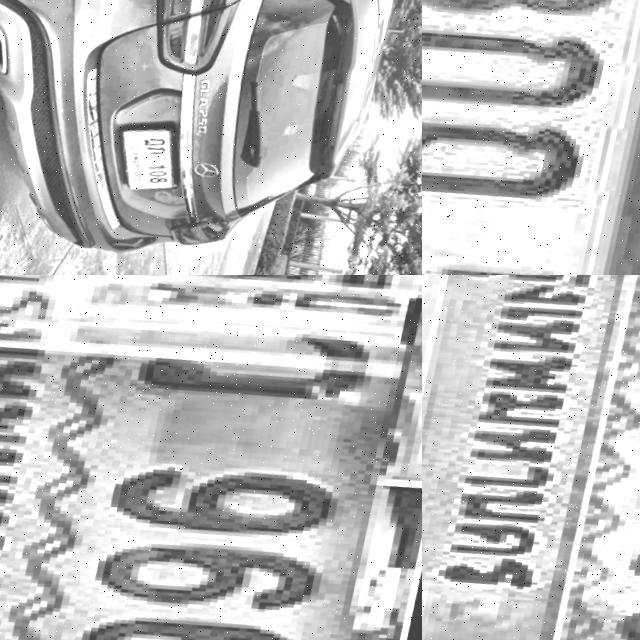license-plate: (0, 275, 422, 640), (422, 275, 640, 640), (422, 0, 640, 275), (113, 121, 199, 206)
